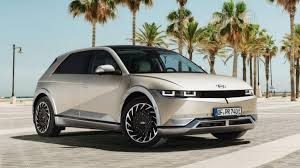Honda Ioniq: (29, 46, 261, 147)
